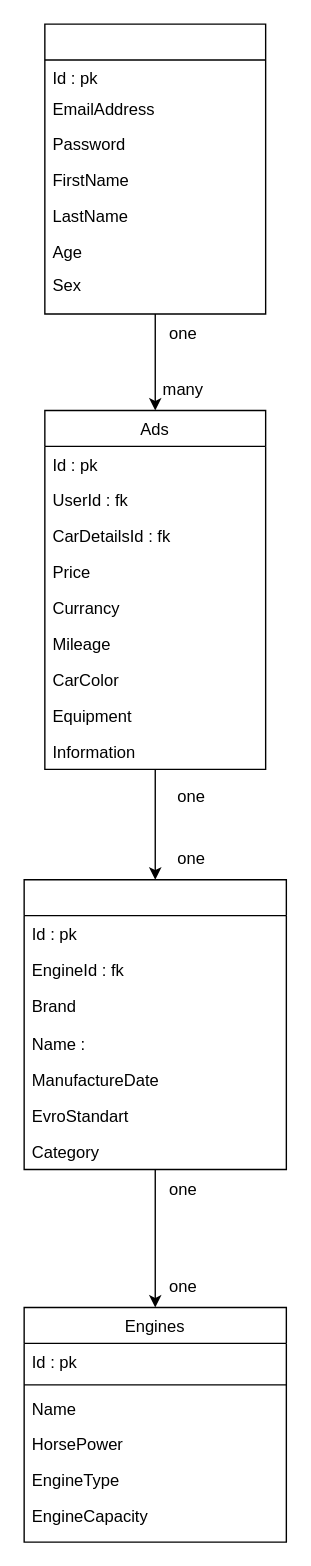
Image size: 311x1566. Some labels were removed from this diagram. The shapes that lost their labels are listed below. From the top down, each one's box as (x1, y1, x2, y2) in pixels, then its label:
(43, 23, 266, 314): Users
(23, 878, 286, 1170): CarDetails
